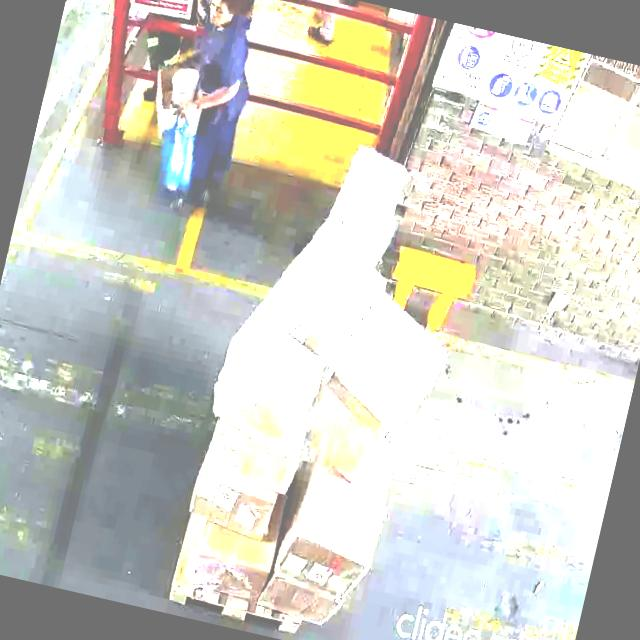Box: (202, 314, 327, 461), (334, 299, 450, 426), (282, 463, 389, 599), (290, 230, 374, 351), (298, 378, 388, 485), (326, 137, 411, 248), (188, 522, 280, 608), (186, 468, 280, 548), (206, 426, 303, 495), (260, 572, 345, 630)
